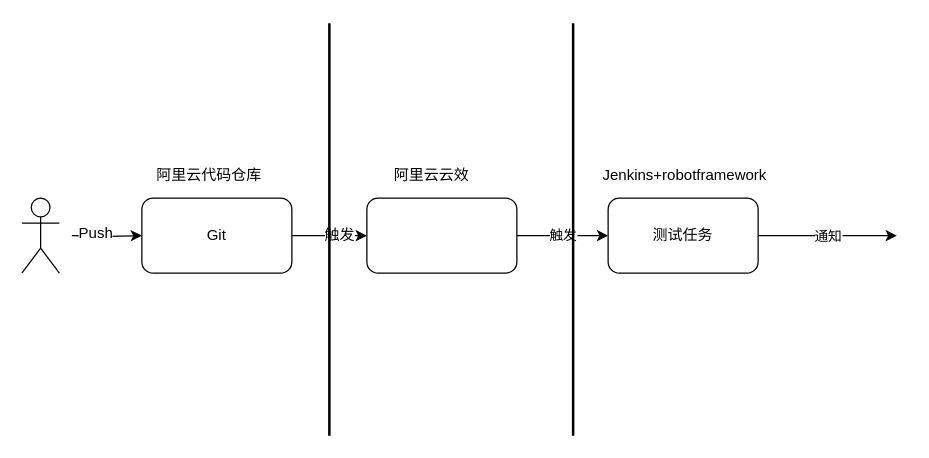
The diagram is 929 pixels wide and 458 high, and some of its shapes have lost their labels. Each missing label, with the centre of its shape:
dev: point 40,235
构建/部署: point 441,235
